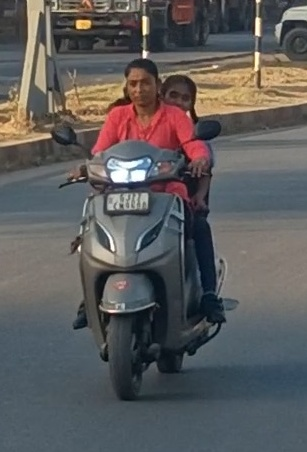BikeWithRider: (49, 58, 239, 403)
NoHelmet: (120, 58, 161, 106), (160, 73, 197, 115)
